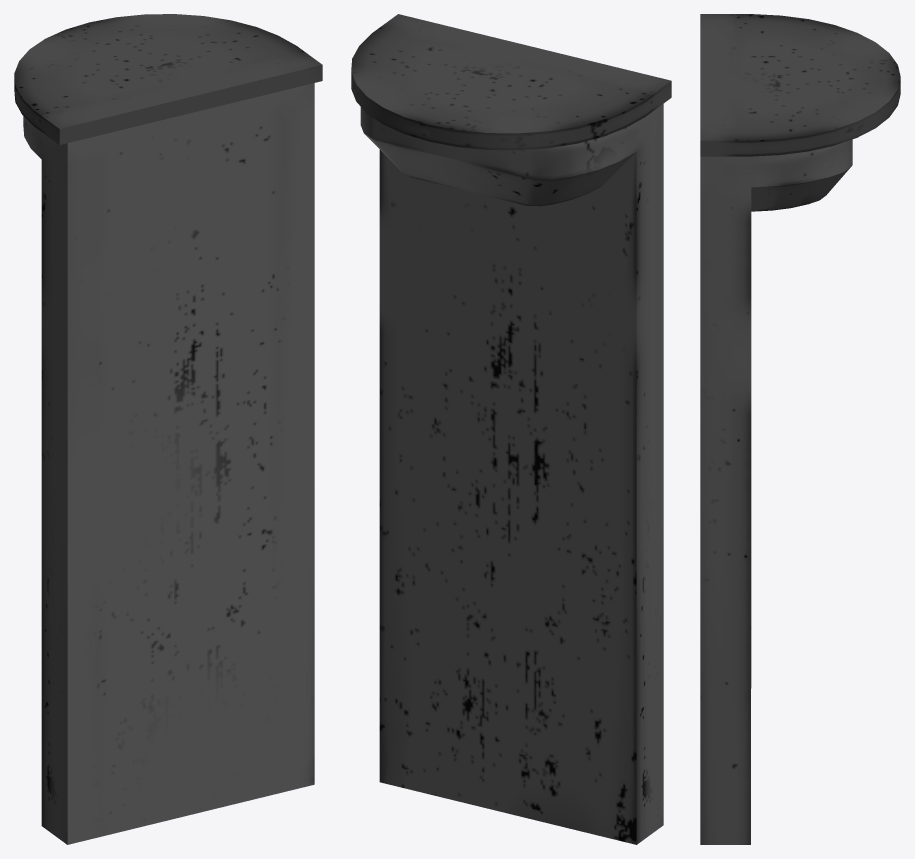
File: Base_Ground_2x3_Cap_Round_v1.fbx
3 renders of one model, left to right at view 1: azimuth 30°, elevation 25°; view 2: azimuth 150°, elevation 25°; view 3: azimuth 270°, elevation 25°, orthographic. The views are drawn at different scales.
Visible parts, largest first — view 1: Base Ground 2x3 Cap Round v1; view 2: Base Ground 2x3 Cap Round v1; view 3: Base Ground 2x3 Cap Round v1.
Boxes of the visible parts, x1,y1,x2,y2 form: Base Ground 2x3 Cap Round v1: (14, 14, 322, 844); Base Ground 2x3 Cap Round v1: (351, 14, 671, 844); Base Ground 2x3 Cap Round v1: (700, 14, 900, 844).
Size of the model in its own units: 298 by 778 by 200.
